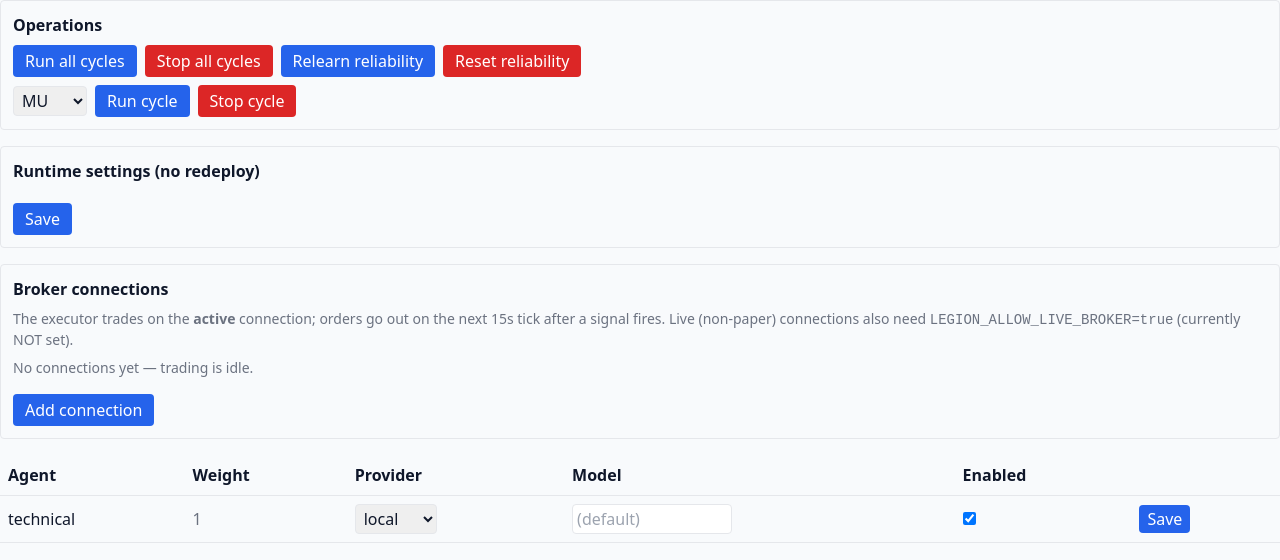
Scenario: AgentConfig › resets reliability only after the confirm dialog is accepted
Click the button with aria-label "reset-reliability".
click(512, 61)  # box left=443, top=45, right=581, bottom=77
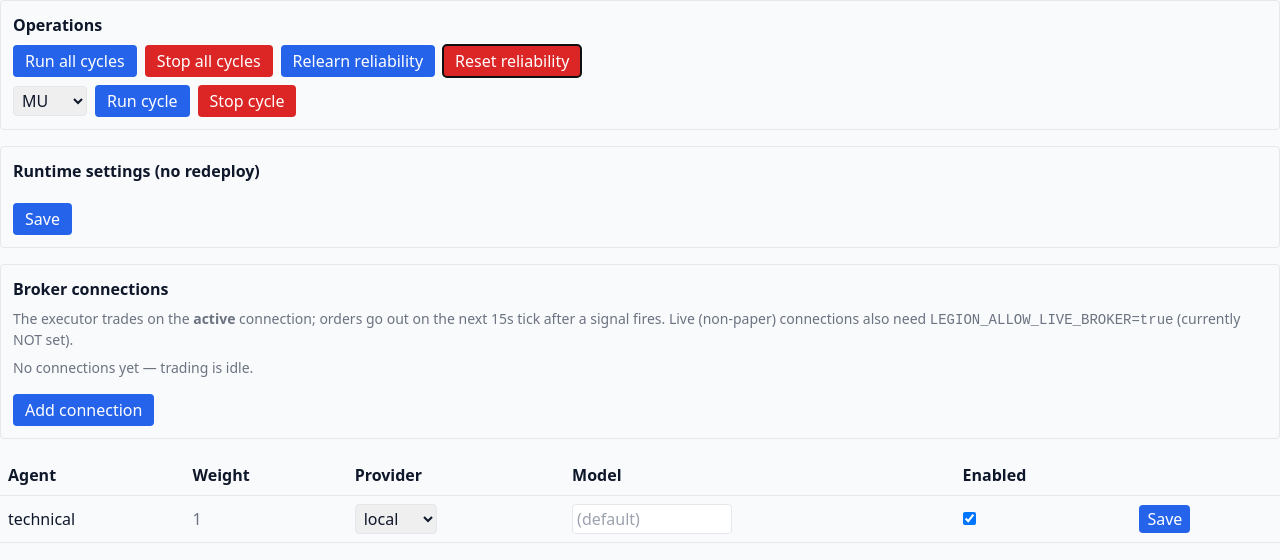
Click the button with aria-label "reset-reliability".
click(512, 61)  # box left=443, top=45, right=581, bottom=77
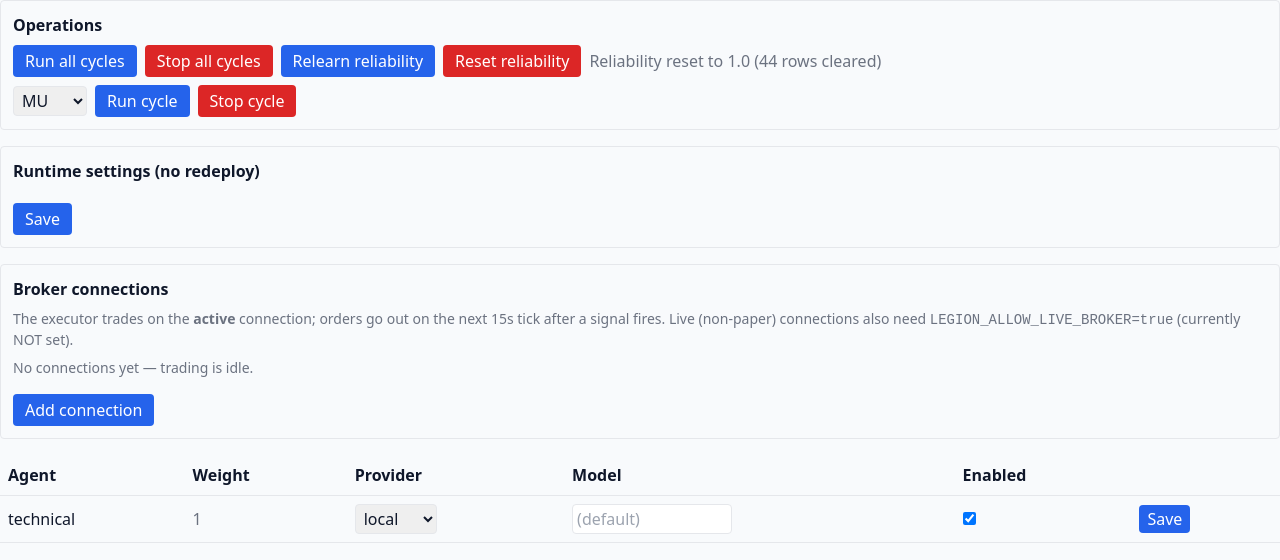
Expected: the text "Reliability reset to 1.0 (44 rows cleared)" is shown, left=589, top=49, right=881, bottom=73
